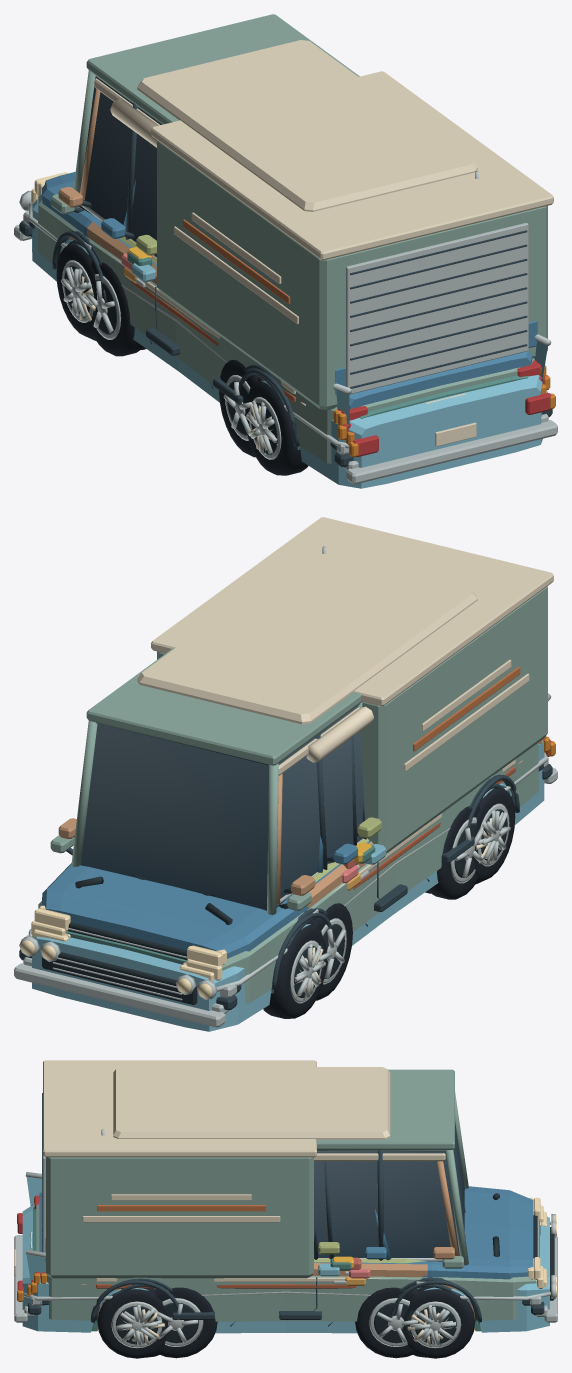
File: street-fleet.glb
3 views of the same model, one above another, from view 1: azimuth 30°, elevation 25°; view 2: azimuth 150°, elevation 25°; view 3: azimuth 270°, elevation 25° (orthographic). The views are drawn at different scales.
Parts seen in each view (by area): view 1: mercado body paint, mercado body hard, marea body hard, lido body paint, mercado body enamel, barranca body paint, lido body metal, mercado body metal, mercado wheel_LR soft, marea body paint, jetty wheel_LF soft, marea body metal (+12 smaller); view 2: mercado body paint, mercado body enamel, marea body hard, mercado body hard, barranca body paint, lido body paint, lido body metal, mercado body metal, lido body hard, marea body metal, mercado wheel_LF soft, marea body paint (+14 smaller); view 3: mercado body paint, marea body hard, mercado body hard, mercado body enamel, barranca body paint, lido body paint, lido body metal, mercado body metal, mercado wheel_RF soft, mercado wheel_RR soft, marea body paint, jetty wheel_RF soft (+16 smaller).
Boxes of the visible parts, bbox=[...] form: mercado body paint: bbox=[38, 14, 547, 463]; mercado body hard: bbox=[151, 71, 553, 394]; marea body hard: bbox=[108, 40, 477, 402]; lido body paint: bbox=[32, 199, 547, 488]; mercado body enamel: bbox=[31, 76, 550, 439]; barranca body paint: bbox=[42, 172, 537, 408]; lido body metal: bbox=[14, 190, 557, 484]; mercado body metal: bbox=[19, 102, 552, 466]; mercado wheel_LR soft: bbox=[245, 381, 300, 475]; marea body paint: bbox=[58, 89, 156, 284]; jetty wheel_LF soft: bbox=[91, 260, 143, 356]; marea body metal: bbox=[27, 99, 478, 450]; mercado body paint: bbox=[38, 586, 547, 1003]; mercado body enamel: bbox=[31, 706, 550, 980]; marea body hard: bbox=[137, 551, 515, 894]; mercado body hard: bbox=[70, 517, 553, 964]; barranca body paint: bbox=[42, 803, 370, 958]; lido body paint: bbox=[32, 741, 544, 1031]; lido body metal: bbox=[14, 693, 557, 1027]; mercado body metal: bbox=[19, 722, 552, 1010]; lido body hard: bbox=[42, 952, 197, 1004]; marea body metal: bbox=[74, 546, 543, 993]; mercado wheel_LF soft: bbox=[270, 924, 326, 1018]; marea body paint: bbox=[58, 773, 503, 907]; mercado body paint: bbox=[36, 1069, 536, 1321]; marea body hard: bbox=[96, 1067, 391, 1288]; mercado body hard: bbox=[42, 1060, 540, 1252]; mercado body enamel: bbox=[31, 1121, 543, 1293]; barranca body paint: bbox=[39, 1186, 533, 1279]; lido body paint: bbox=[22, 1177, 549, 1333]; lido body metal: bbox=[14, 1172, 557, 1326]; mercado body metal: bbox=[28, 1150, 544, 1322]; mercado wheel_RF soft: bbox=[403, 1289, 475, 1358]; mercado wheel_RR soft: bbox=[97, 1289, 168, 1358]; marea body paint: bbox=[97, 1161, 474, 1319]; jetty wheel_RF soft: bbox=[355, 1287, 418, 1358].
Size of the model in its own units: 2.26 by 2.35 by 5.34.
